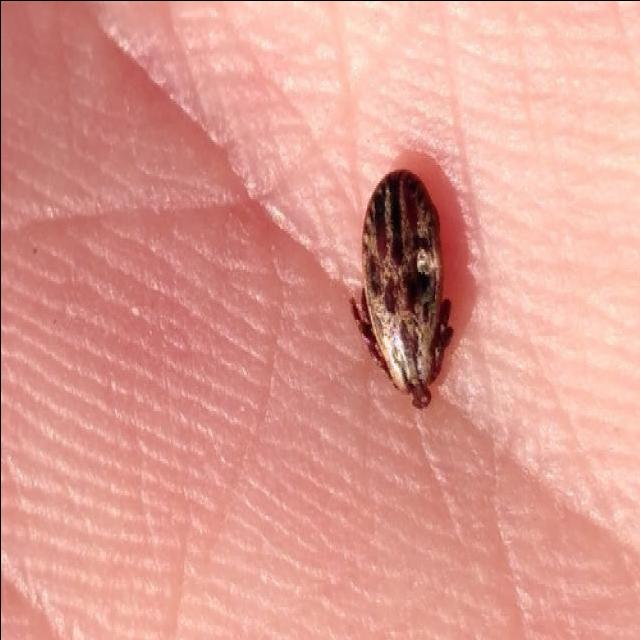Dermacentor Reticulatus-M: (351, 170, 453, 408)
